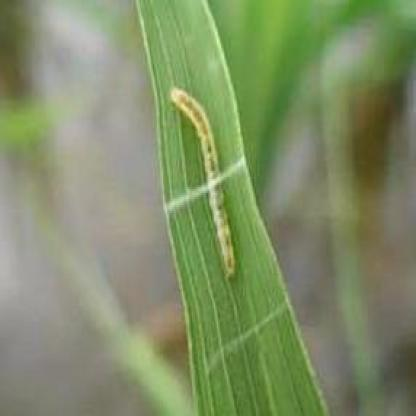leaf-folder: (163, 74, 245, 282)
